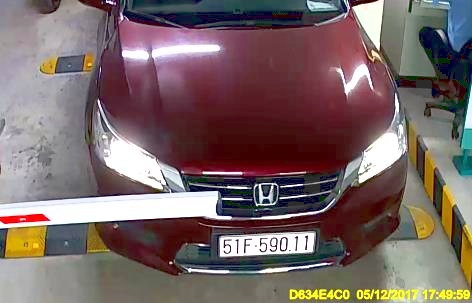plate: (213, 227, 323, 262)
